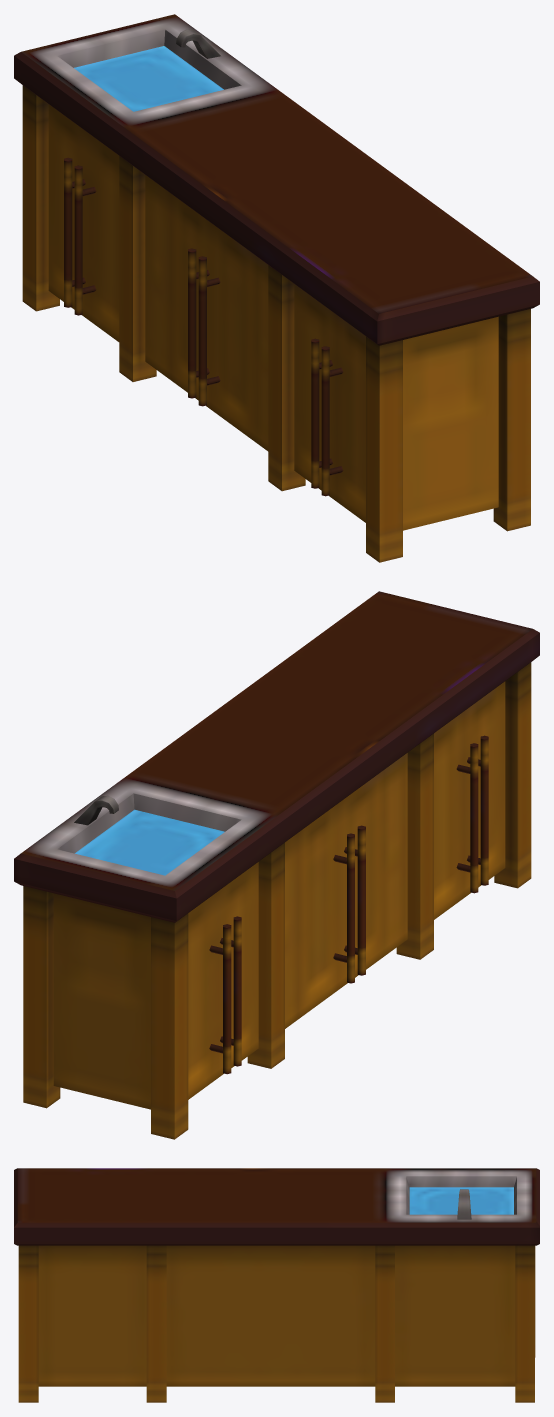
Rendered from Kitchen_Cabinet_02_clear.gltf.
3 renders of one model, top to bottom at view 1: azimuth 30°, elevation 25°; view 2: azimuth 150°, elevation 25°; view 3: azimuth 270°, elevation 25°, orthographic. The views are drawn at different scales.
Parts seen in each view (by area): view 1: Kitchen_Cabinet_02_clear; view 2: Kitchen_Cabinet_02_clear; view 3: Kitchen_Cabinet_02_clear.
Part boxes in pixels (left/top/right/bottom): Kitchen_Cabinet_02_clear: left=14, top=14, right=539, bottom=562; Kitchen_Cabinet_02_clear: left=14, top=591, right=539, bottom=1139; Kitchen_Cabinet_02_clear: left=14, top=1168, right=539, bottom=1402.
Bounding box in the file's own units: 22.56 × 36.17 × 86.01.
1 material, 1 textured.
